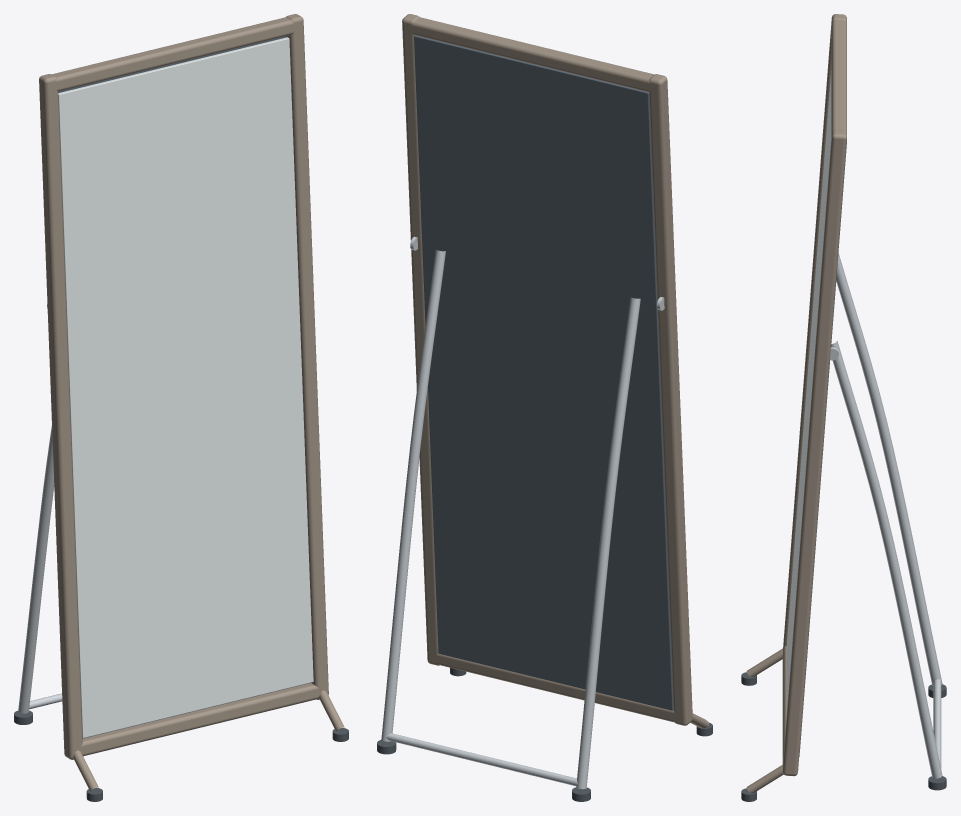
File: floor-mirror.glb
3 views of the same model, side by side, from view 1: azimuth 30°, elevation 25°; view 2: azimuth 150°, elevation 25°; view 3: azimuth 270°, elevation 25° (orthographic). The views are drawn at different scales.
Visible parts, largest first — view 1: floor-mirror; view 2: floor-mirror; view 3: floor-mirror.
Boxes of the visible parts, left/top/right/bottom form: floor-mirror: left=14, top=14, right=348, bottom=801; floor-mirror: left=377, top=14, right=712, bottom=801; floor-mirror: left=741, top=14, right=946, bottom=801.
Bounding box in the file's own units: 0.68 × 1.72 × 0.48.
